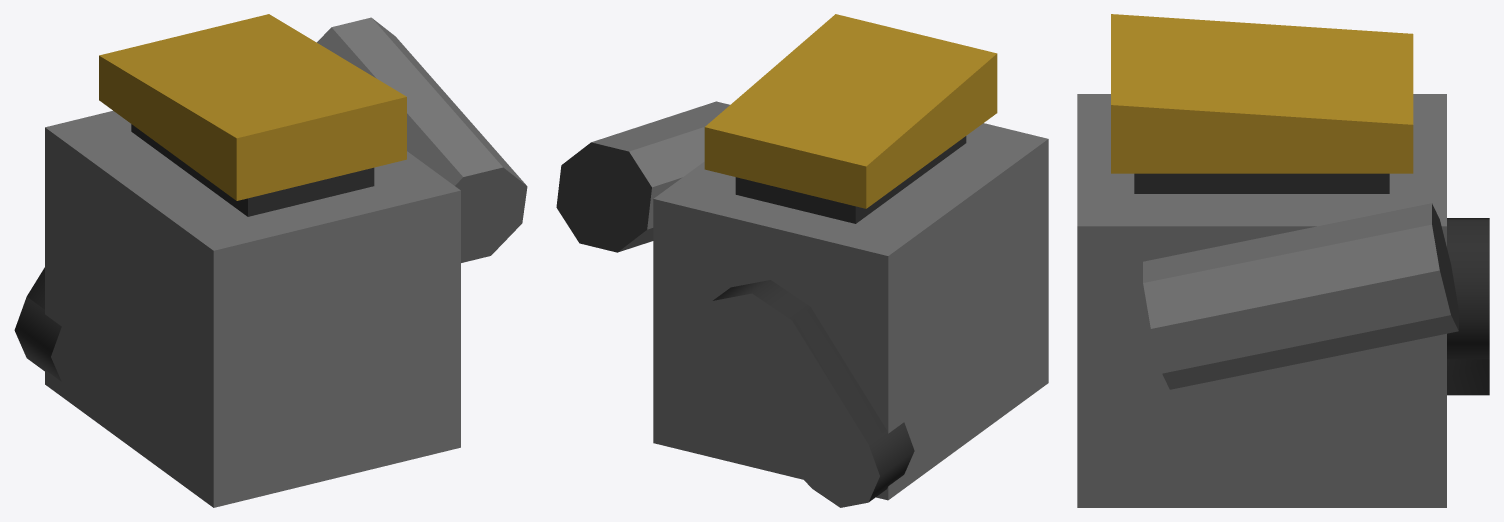
The model's file is Small_Engine_1.fbx.
3 views of the same model, side by side, from view 1: azimuth 30°, elevation 25°; view 2: azimuth 150°, elevation 25°; view 3: azimuth 270°, elevation 25° (orthographic). The views are drawn at different scales.
Visible parts, largest first — view 1: Small_Engine_1; view 2: Small_Engine_1; view 3: Small_Engine_1.
Part boxes in pixels (x1,y1,x2,y2): Small_Engine_1: [14, 14, 527, 507]; Small_Engine_1: [556, 14, 1048, 507]; Small_Engine_1: [1077, 14, 1489, 507].
Size of the model in its own units: 91.7 by 85.59 by 83.44.
